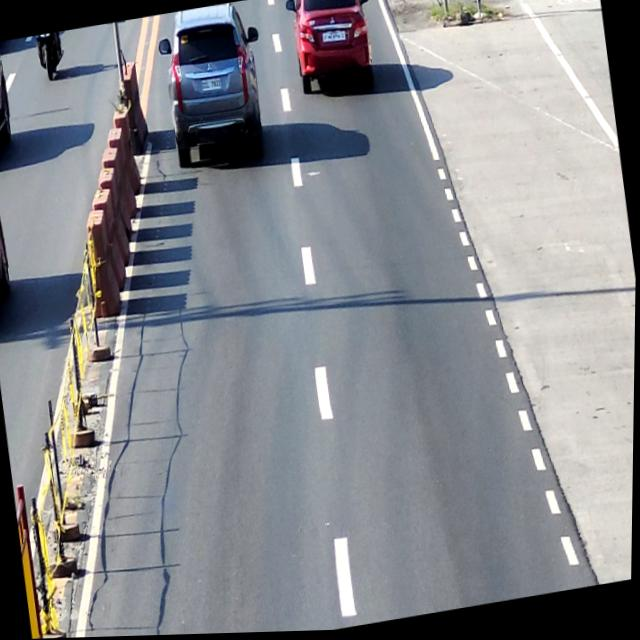Car: (152, 0, 277, 177), (283, 0, 382, 103), (0, 138, 19, 329), (0, 41, 18, 164)
License-Plate: (201, 78, 222, 94), (327, 32, 342, 44)
Motorcycle: (36, 33, 63, 83)
